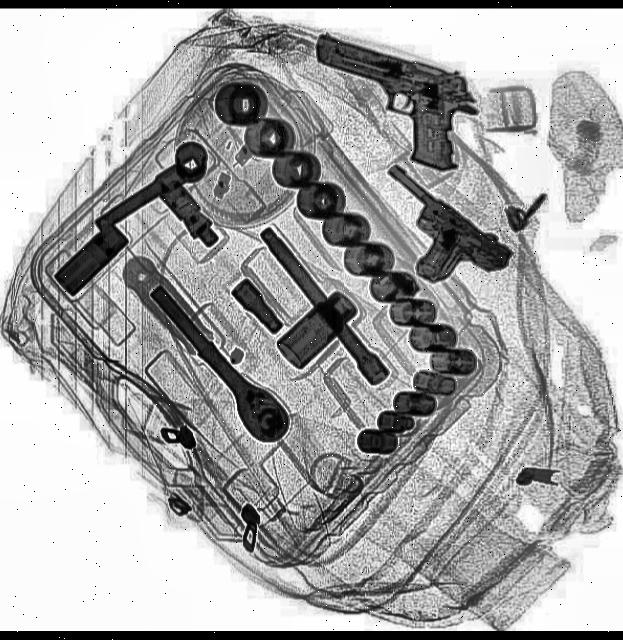Gun: (292, 34, 485, 180), (352, 160, 516, 320)
